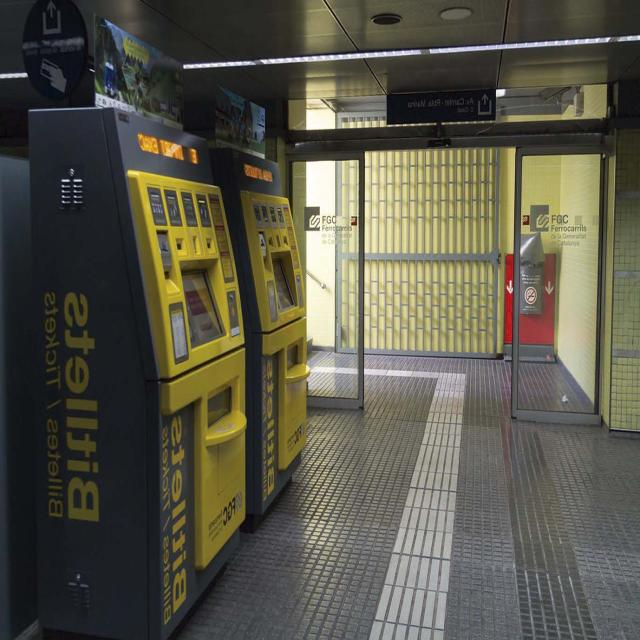maquina-tickets: (26, 102, 248, 639), (235, 145, 313, 514)
